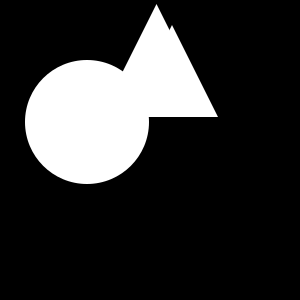rectangle: (25, 60, 149, 184)
triangle: (108, 4, 205, 101), (126, 25, 218, 117)
